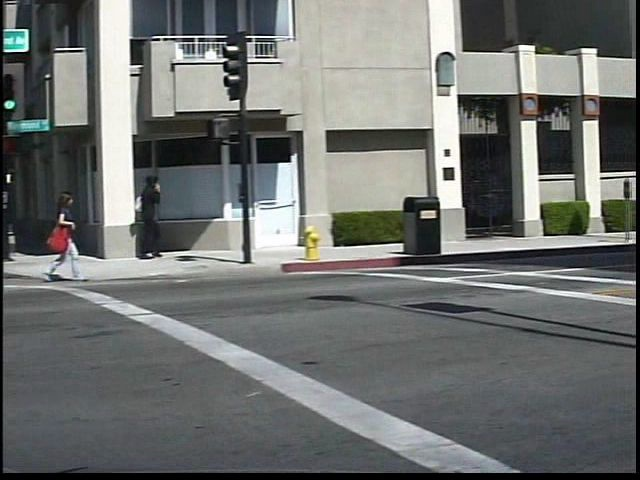person: (42, 184, 93, 290), (134, 172, 181, 262)
